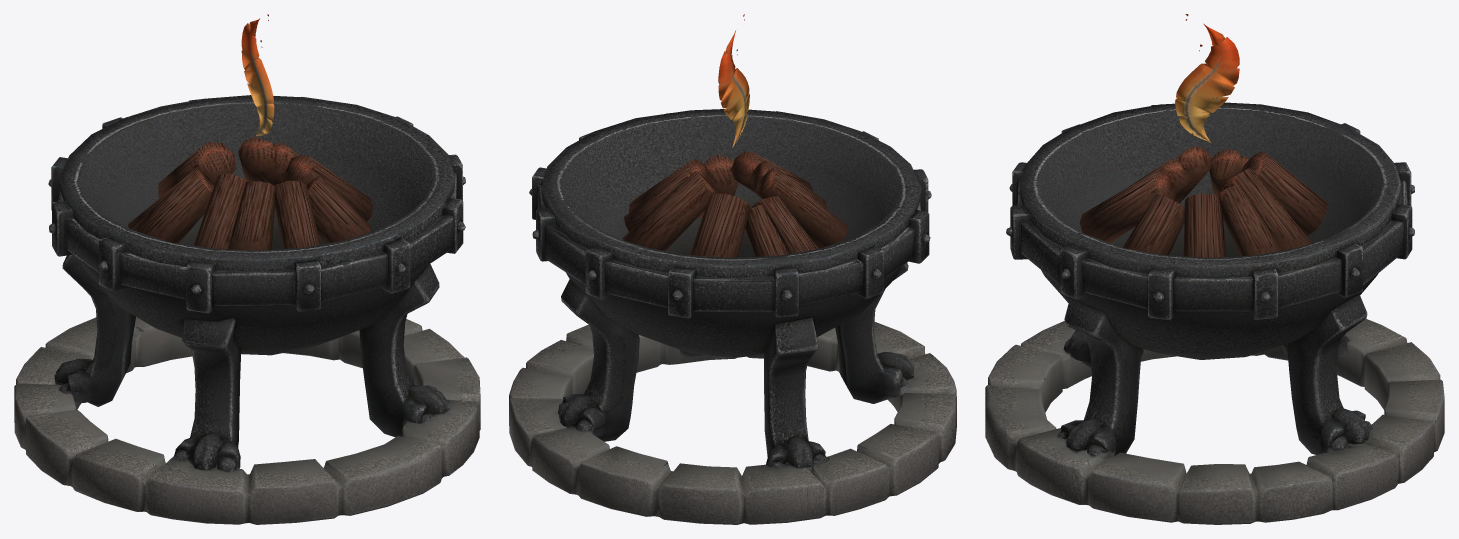
Rendered from tripo_convert_a02c8442-1cbf-4c1c-adef-3f077218c4da.fbx.
The picture shows the model from 3 angles, left to right: view 1: azimuth 30°, elevation 25°; view 2: azimuth 150°, elevation 25°; view 3: azimuth 270°, elevation 25°; orthographic projection. The views are drawn at different scales.
Parts seen in each view (by area): view 1: tripo_node_a02c8442; view 2: tripo_node_a02c8442; view 3: tripo_node_a02c8442.
Part boxes in pixels (<box>): tripo_node_a02c8442: <box>14,14,480,524</box>; tripo_node_a02c8442: <box>509,14,956,524</box>; tripo_node_a02c8442: <box>985,14,1444,524</box>.
Bounding box in the file's own units: 0.998 × 0.998 × 0.998.
Materials: 1 (1 with a texture image).
